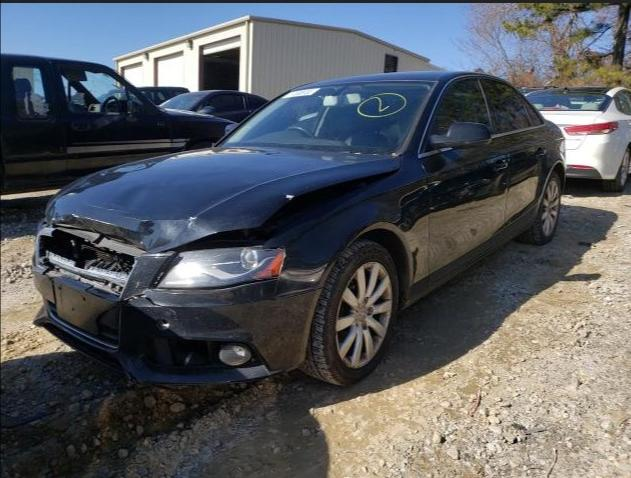Broken part: (44, 147, 398, 254), (31, 268, 321, 386), (161, 172, 390, 252), (34, 226, 144, 300)
Dent: (49, 215, 165, 250)
Missing part: (35, 226, 144, 302), (168, 340, 209, 367), (155, 318, 169, 331)
Scratch: (71, 213, 113, 225), (186, 216, 197, 227)
